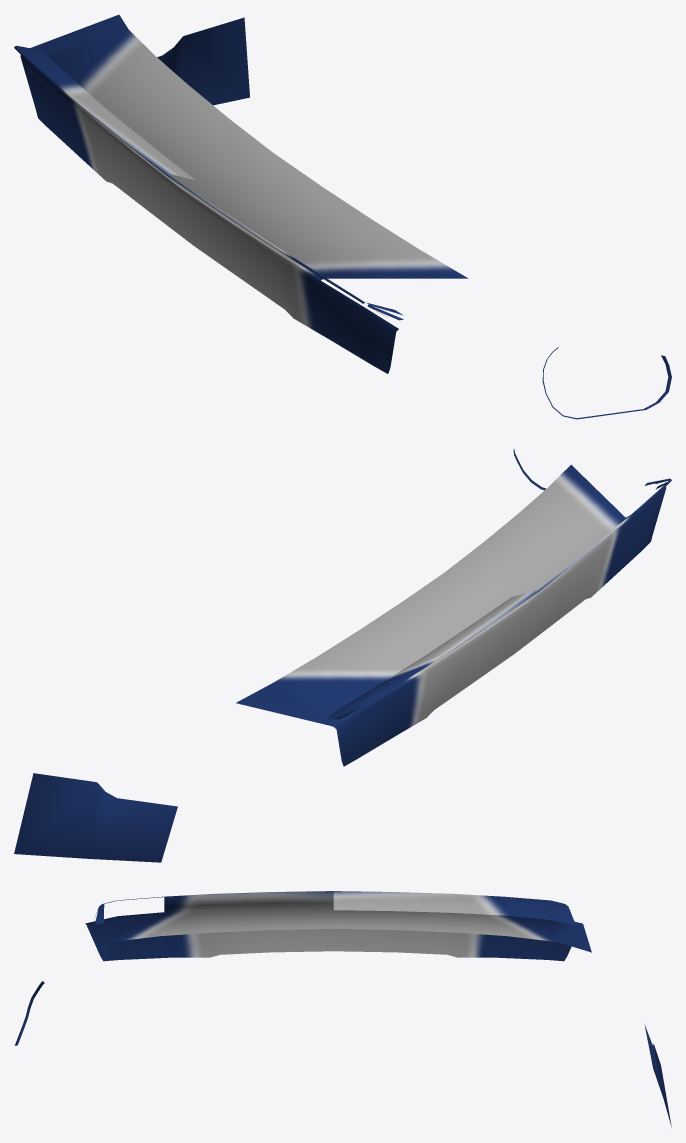
3 views of the same model, one above another, from view 1: azimuth 30°, elevation 25°; view 2: azimuth 150°, elevation 25°; view 3: azimuth 270°, elevation 25° (orthographic). The views are drawn at different scales.
Visible parts, largest first — view 1: (test2); view 2: (test2); view 3: (test2).
Boxes of the visible parts, x1,y1,x2,y2 form: (test2): (14, 14, 671, 419); (test2): (14, 449, 671, 862); (test2): (14, 891, 671, 1126).
Size of the model in its own units: 2016 by 1102 by 5109.
1 material, 1 textured.
